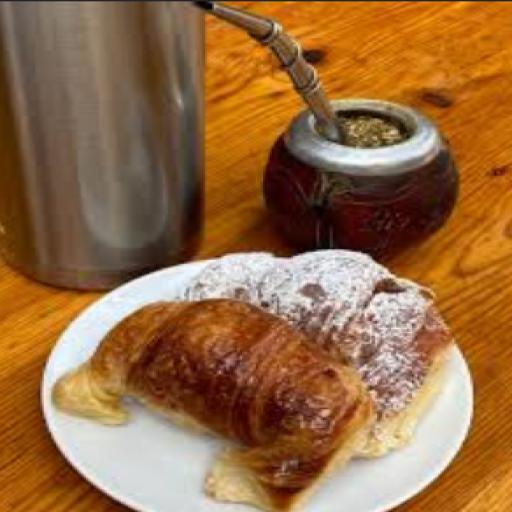bolleria: (53, 300, 373, 511), (185, 250, 454, 456)
mate: (195, 2, 459, 258)
termo: (0, 0, 205, 289)
